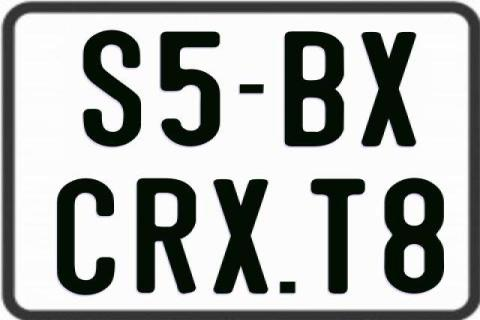0: (160, 29, 224, 145), (383, 177, 443, 296)
B: (283, 29, 344, 145)
C: (54, 177, 112, 299)
R: (135, 176, 197, 295)
S: (82, 30, 146, 148)
T: (311, 179, 368, 297)
X: (359, 30, 419, 144), (212, 179, 270, 295)
